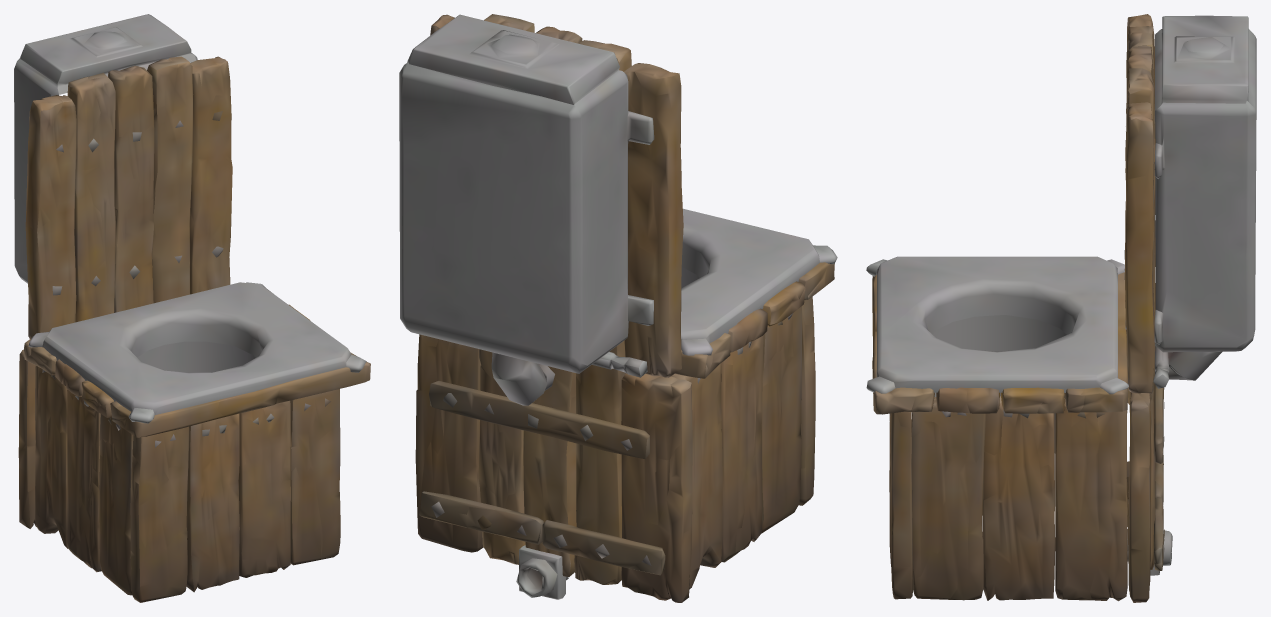
Rendered from StructureBP_Toilet_C.glb.
3 views of the same model, side by side, from view 1: azimuth 30°, elevation 25°; view 2: azimuth 150°, elevation 25°; view 3: azimuth 270°, elevation 25° (orthographic). The views are drawn at different scales.
Parts seen in each view (by area): view 1: SM_Toilet; view 2: SM_Toilet; view 3: SM_Toilet.
Boxes of the visible parts, x1=… form: SM_Toilet: x1=14, y1=14, x2=370, y2=602; SM_Toilet: x1=399, y1=14, x2=837, y2=602; SM_Toilet: x1=866, y1=14, x2=1256, y2=602.
Bounding box in the file's own units: 0.6165 × 1.13 × 0.7645.
Materials: 2 (2 with a texture image).
